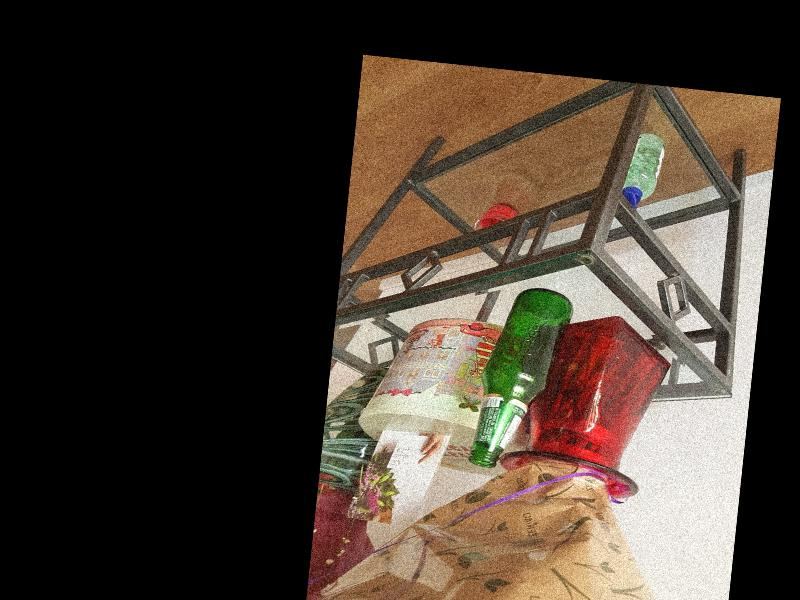Beer: (469, 282, 574, 475)
